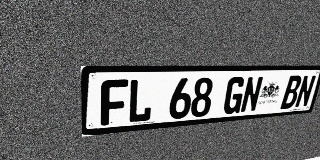6: (168, 78, 194, 120)
8: (190, 77, 215, 118)
B: (280, 75, 303, 109)
F: (101, 79, 128, 126)
G: (222, 77, 247, 115)
L: (127, 79, 154, 123)
N: (240, 76, 264, 113), (294, 75, 317, 108)
